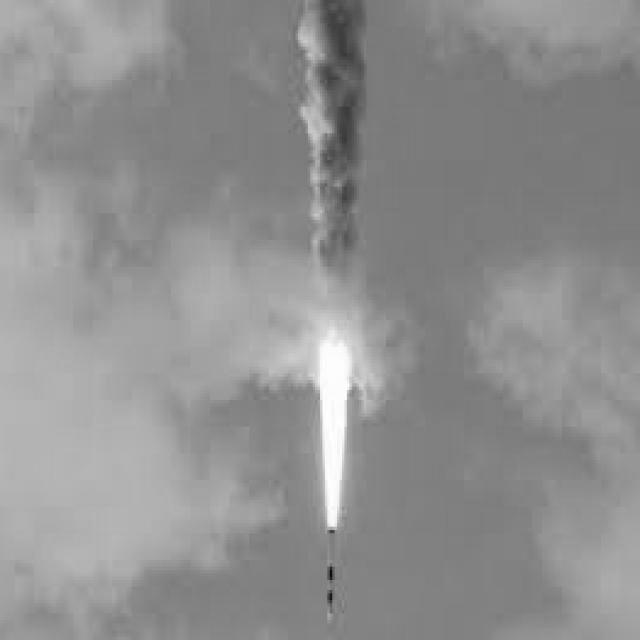missile: (322, 535, 337, 622)
